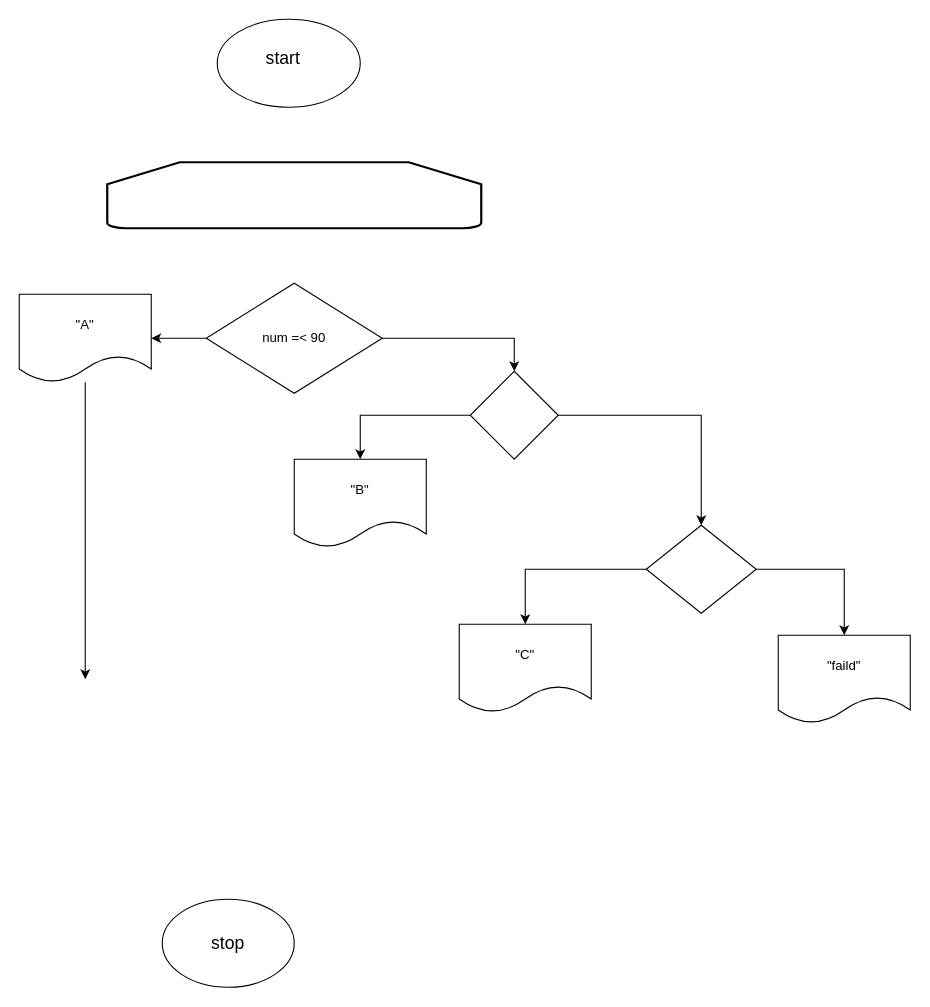
Some shapes in this 930 by 1007 pixel diagram are drawn without their labels. The box of each missing label's shape, as (x1, y1, x2, y2) in pixels:
grade: (106, 161, 482, 229)
num = < 80: (469, 370, 558, 459)
num =<70: (645, 524, 756, 613)
